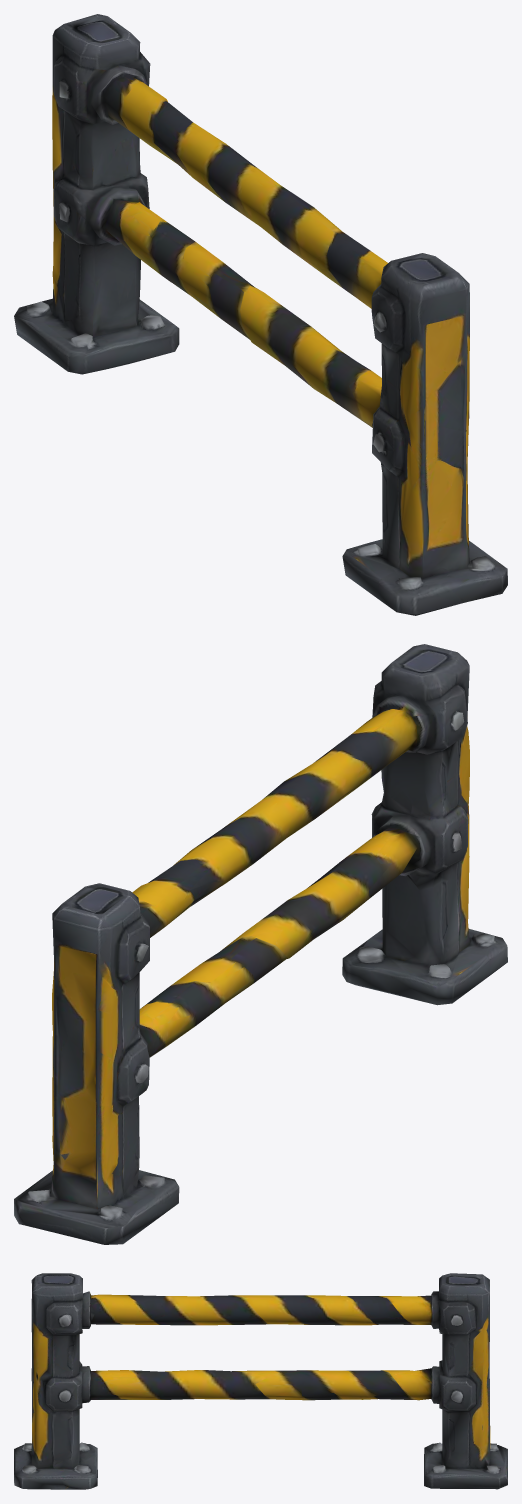
Rendered from env-rails.glb.
3 renders of one model, top to bottom at view 1: azimuth 30°, elevation 25°; view 2: azimuth 150°, elevation 25°; view 3: azimuth 270°, elevation 25°, orthographic. The views are drawn at different scales.
Parts seen in each view (by area): view 1: env-rails; view 2: env-rails; view 3: env-rails.
Part boxes in pixels (<box>): env-rails: <box>14,14,507,615</box>; env-rails: <box>14,644,507,1244</box>; env-rails: <box>14,1273,507,1489</box>.
Size of the model in its own units: 0.3242 by 0.8657 by 2.
Materials: 1 (1 with a texture image).
